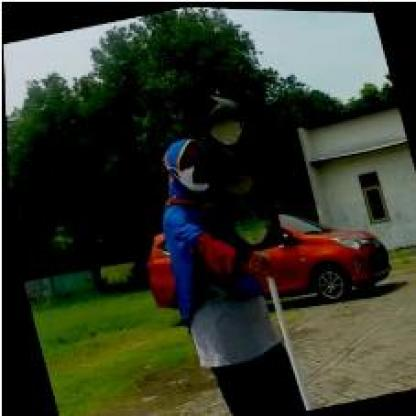green: (172, 82, 286, 258)
